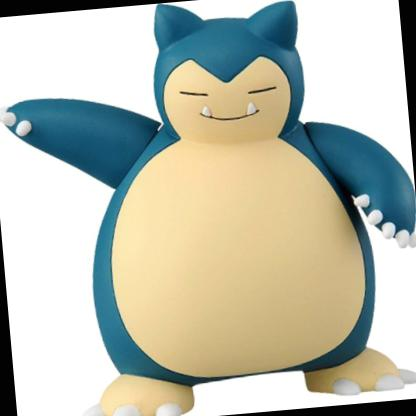Relaxo: (0, 0, 415, 385)
